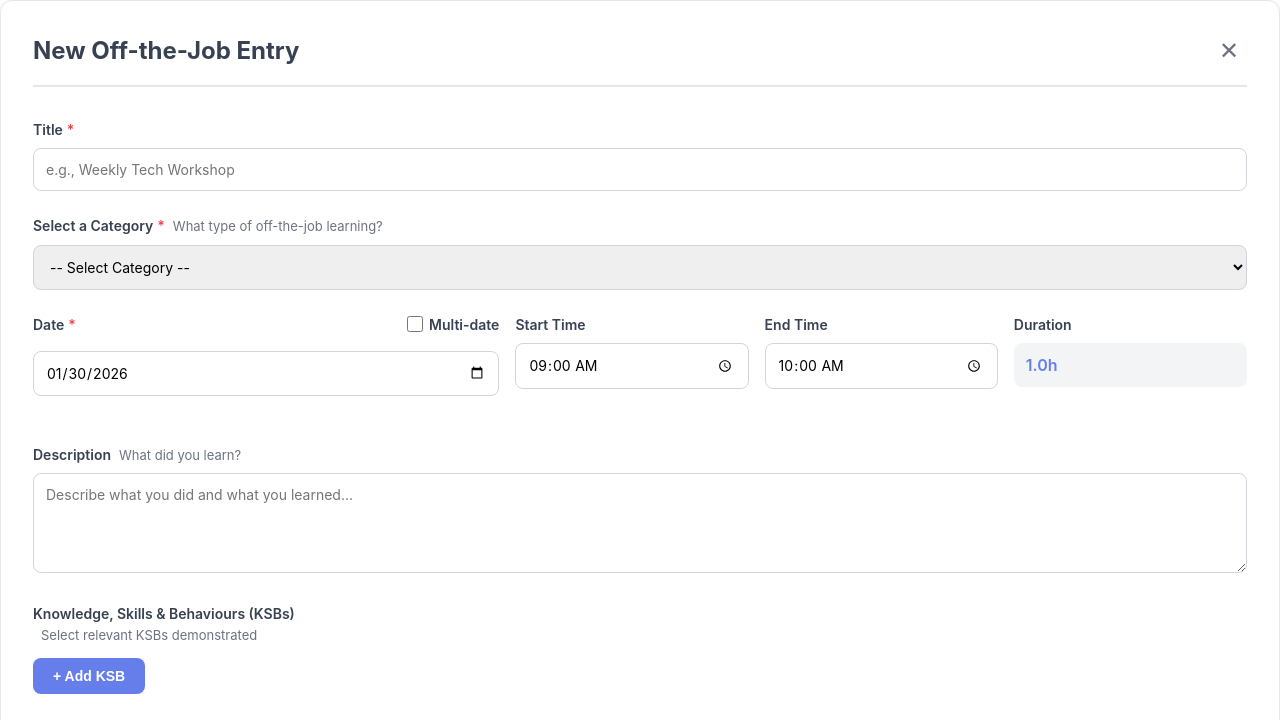
Test: OTJEntryForm - Duration Calculation › should calculate duration for whole hours
The width and height of the screenshot is (1280, 720).
Replace the text in the time field labelled "Start Time" with "14:00" at (632, 366), box [515,342,749,389]
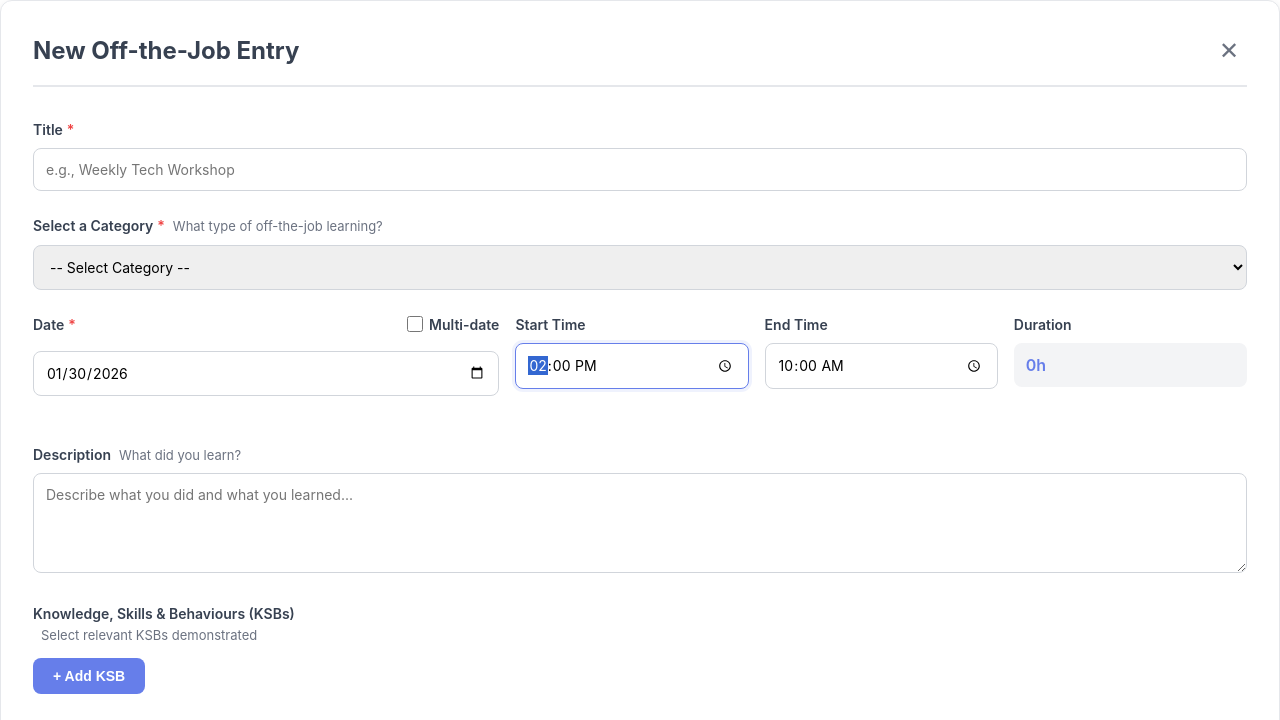
Replace the text in the time field labelled "End Time" with "17:00" at (881, 366), box [765,342,998,389]
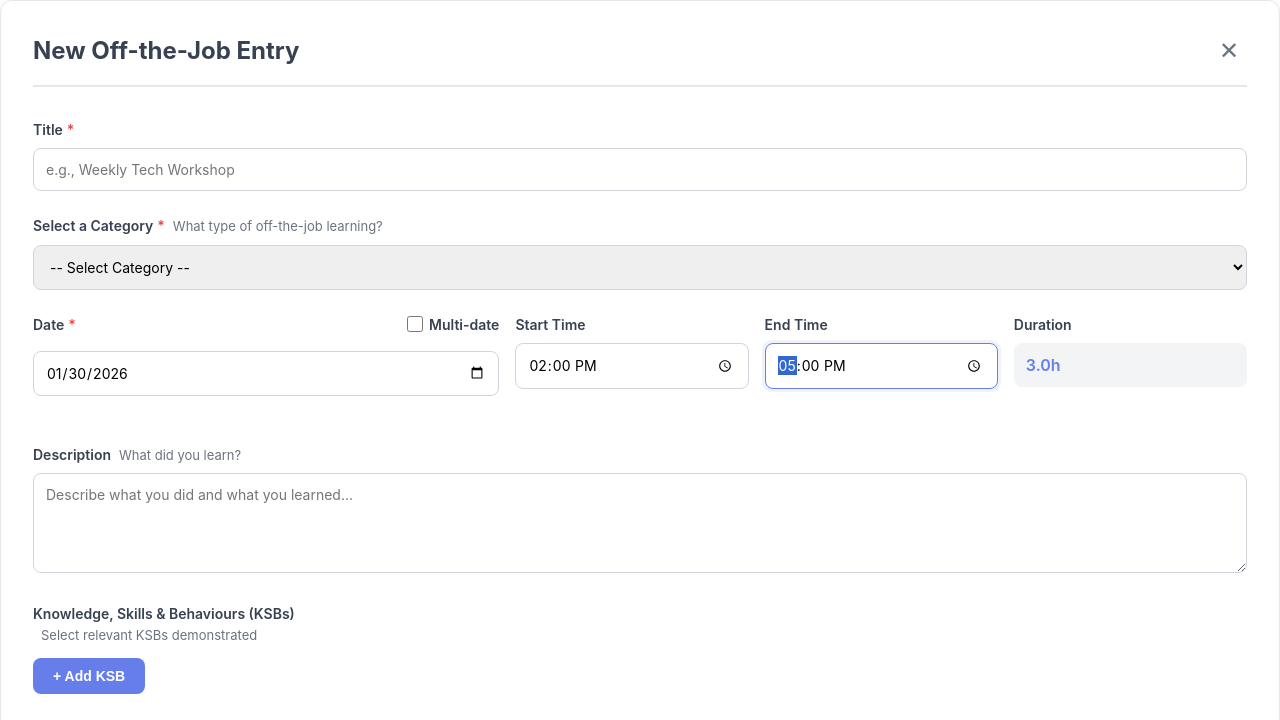
Now the text "3.0h" is shown, box [1014,342,1247,386]
